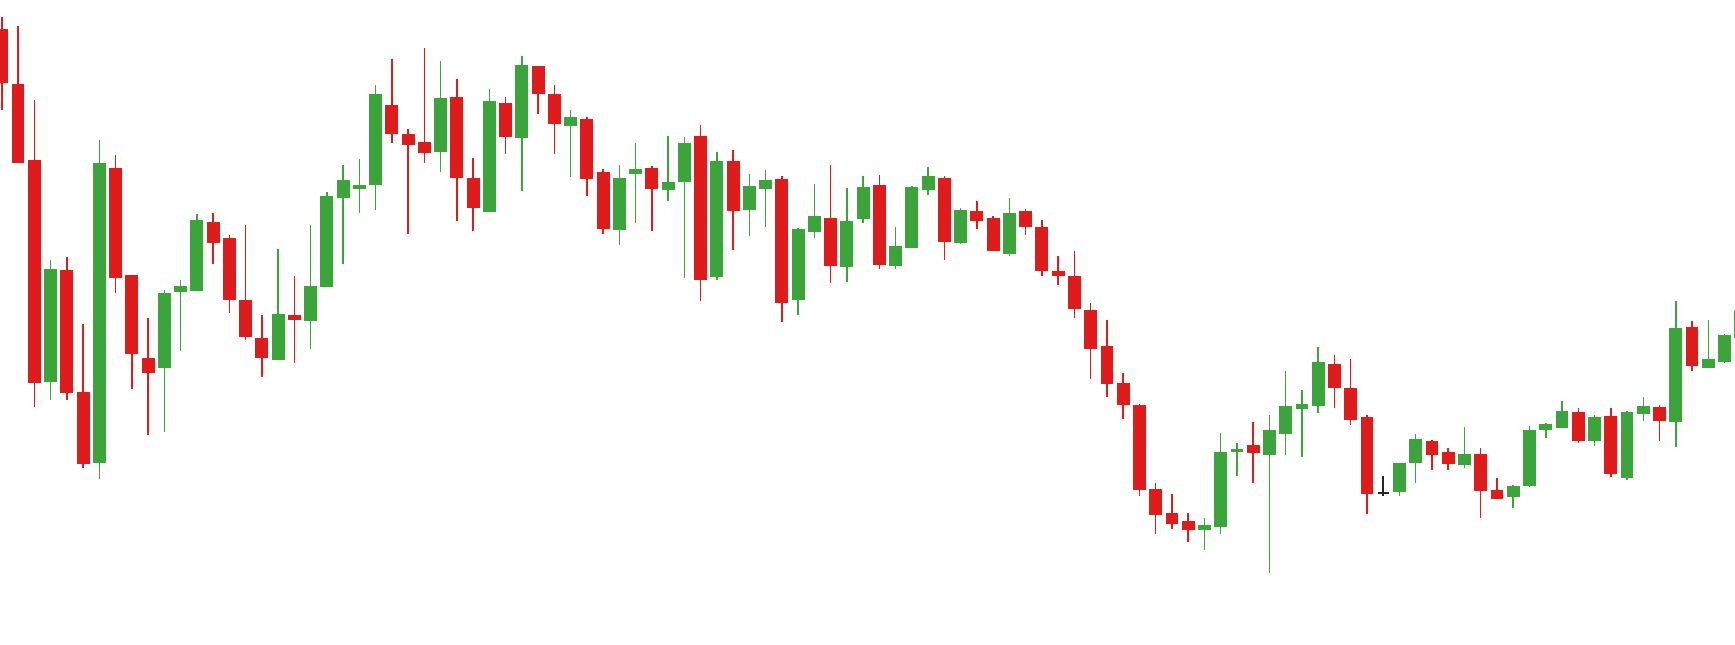buy: (1358, 449, 1523, 524)
